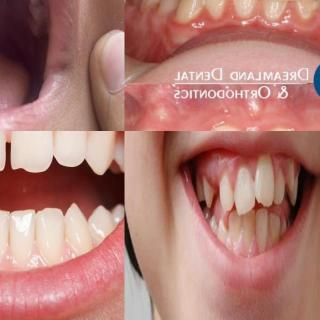Gum Swelling: (200, 156, 250, 184), (271, 154, 295, 182)
cavities: (33, 0, 45, 10)
maligned: (253, 157, 276, 201), (233, 168, 253, 213), (286, 163, 298, 192), (216, 216, 228, 240)
plaque: (292, 0, 320, 24)
